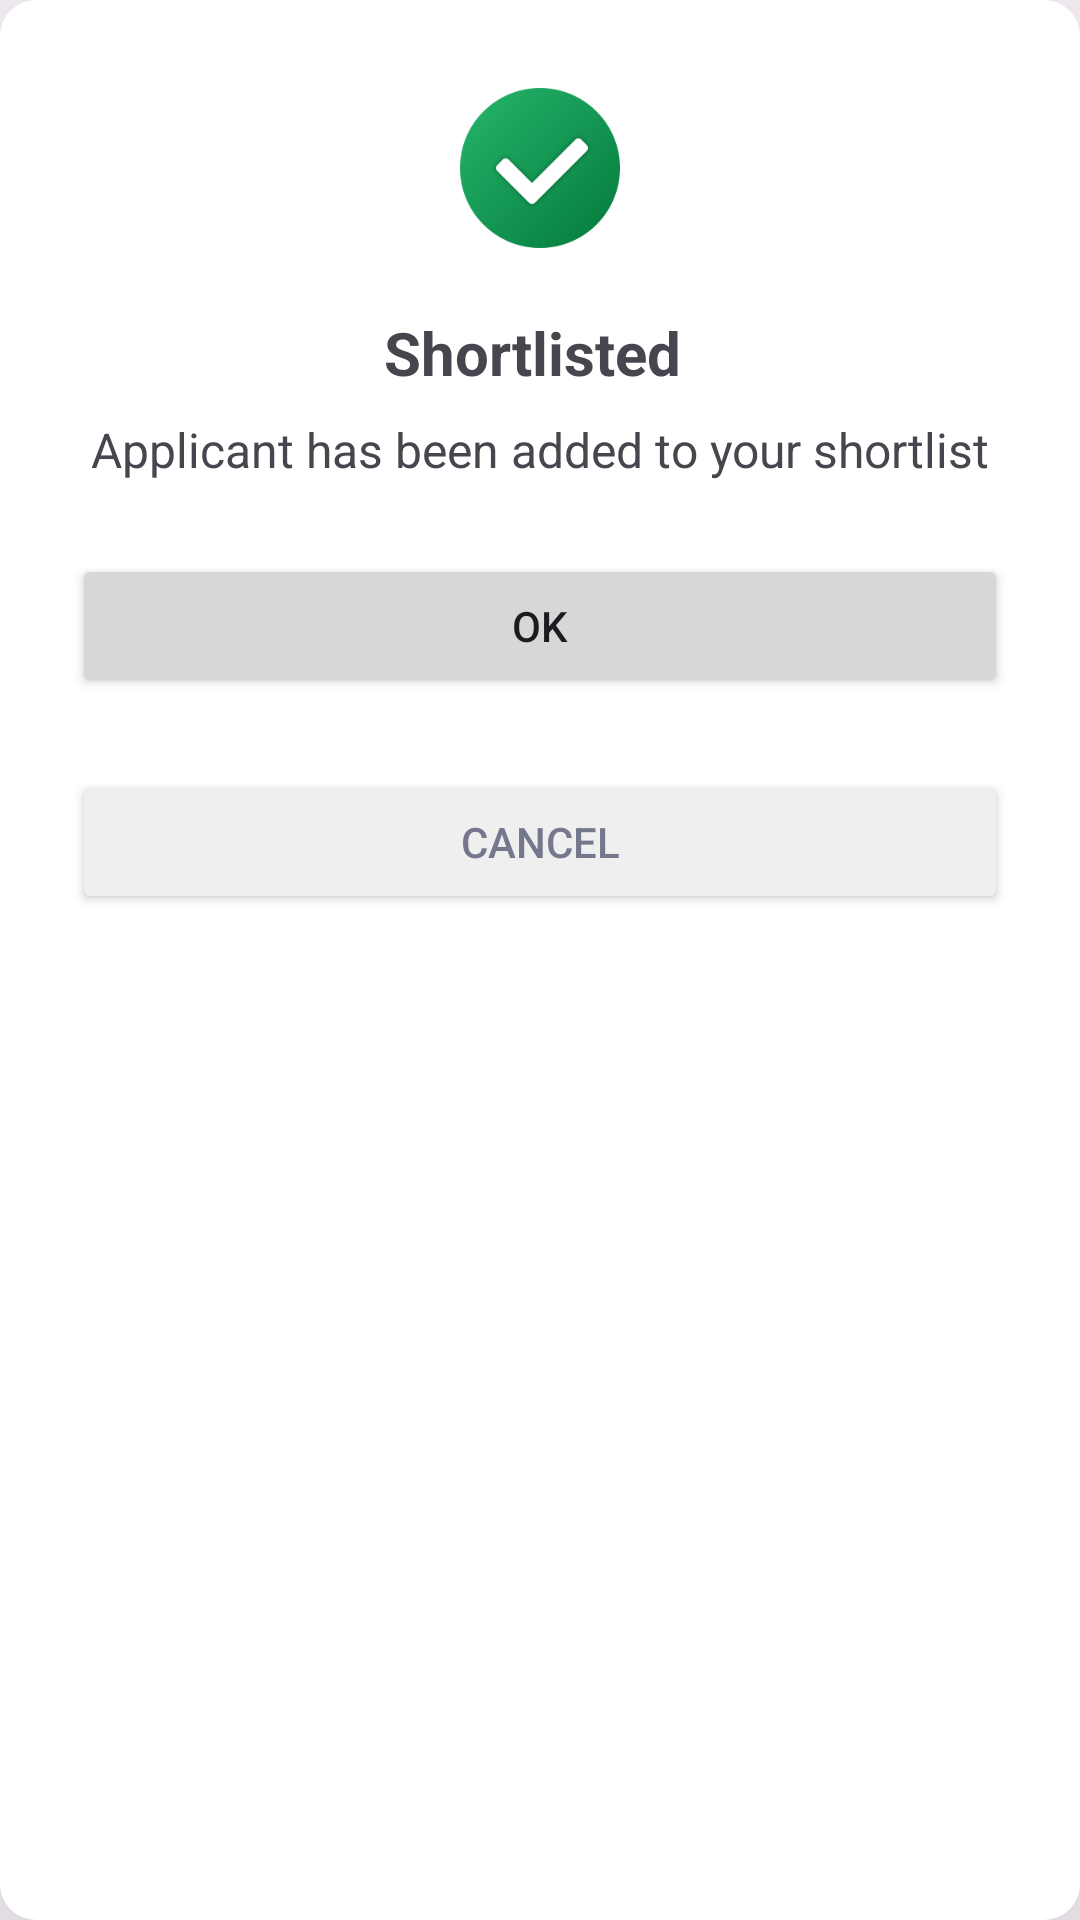

Screen size 1080*1920. Icon name, then its center in pixels as [x,y]:
completed: [540,168]
